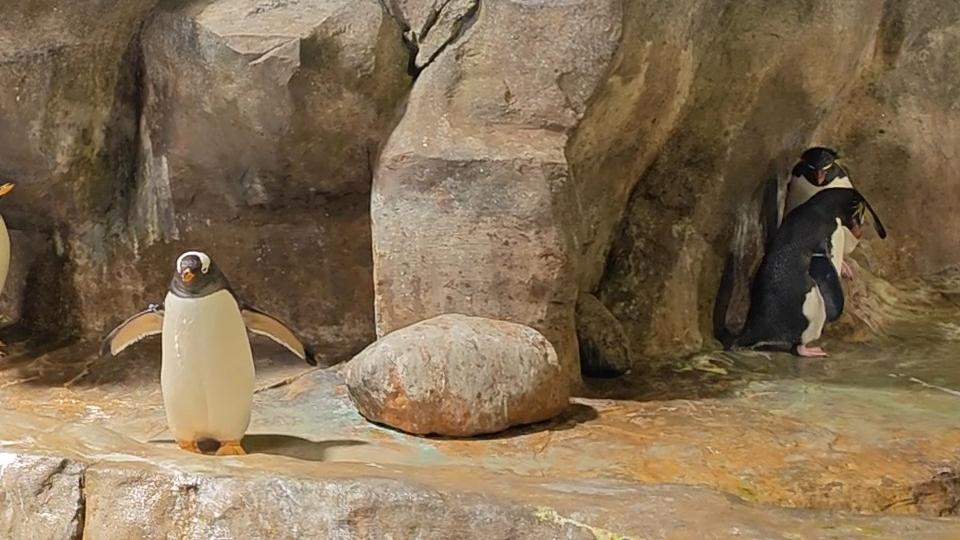Southern Rockhopper Penguin: (726, 182, 877, 369), (781, 141, 871, 283)
